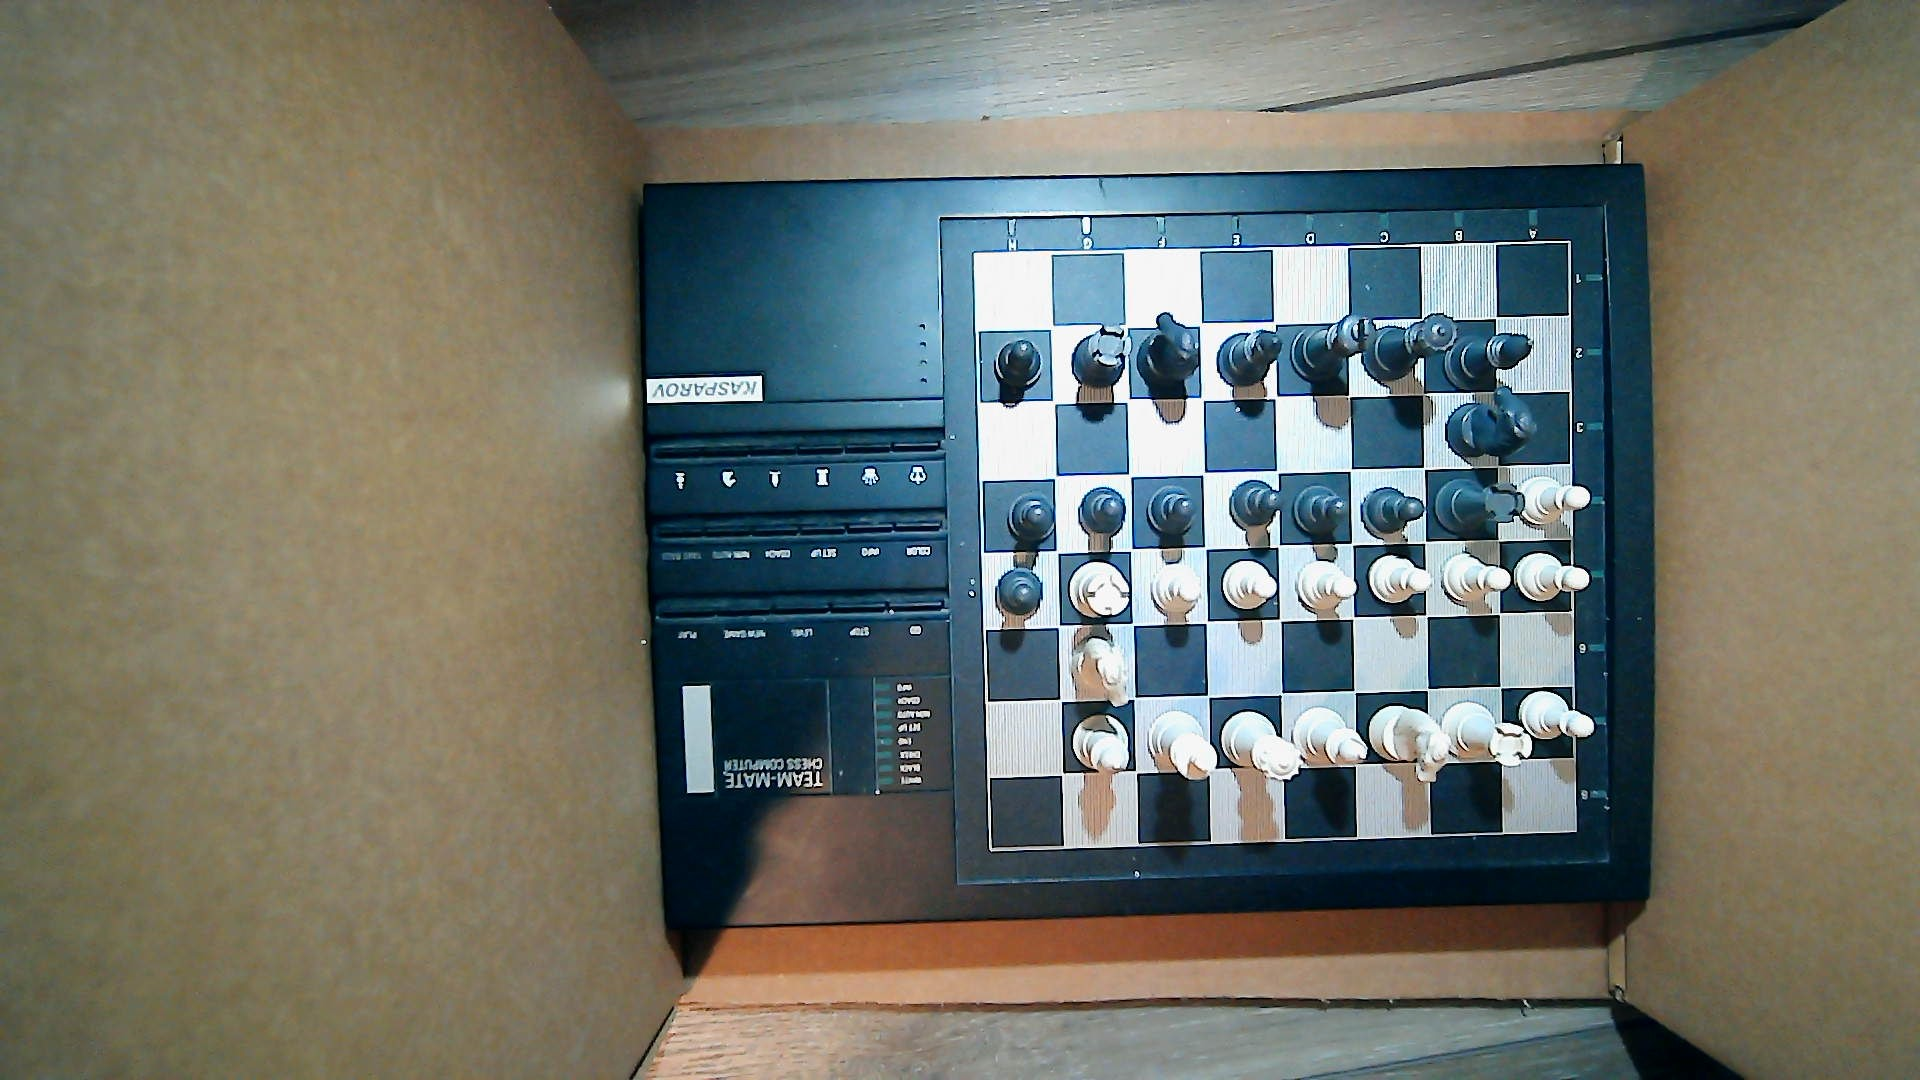bbishop: (1447, 331, 1538, 386), (1069, 712, 1135, 778), (1217, 328, 1282, 388)
bking: (1288, 311, 1375, 382)
bknight: (1443, 385, 1539, 459), (1135, 311, 1201, 392)
bpawn: (1291, 483, 1352, 538), (1357, 487, 1424, 535), (1147, 481, 1197, 539), (1228, 477, 1284, 527), (1006, 492, 1058, 545), (993, 339, 1044, 390), (993, 567, 1044, 617), (1079, 487, 1127, 538)
bqueen: (1364, 313, 1458, 380)
brook: (1435, 476, 1526, 533), (1072, 322, 1131, 390)
wbishop: (1291, 705, 1367, 769)
wking: (1146, 708, 1218, 785)
wknight: (1366, 702, 1453, 782), (1071, 636, 1134, 707)
wpawn: (1515, 550, 1589, 607), (1522, 688, 1596, 741), (1441, 551, 1511, 605), (1366, 554, 1436, 607), (1516, 477, 1592, 526), (1295, 559, 1358, 611), (1151, 558, 1204, 616), (1222, 560, 1276, 608)
wqueen: (1220, 708, 1302, 782)
wrook: (1443, 700, 1534, 767), (1069, 560, 1133, 618)
